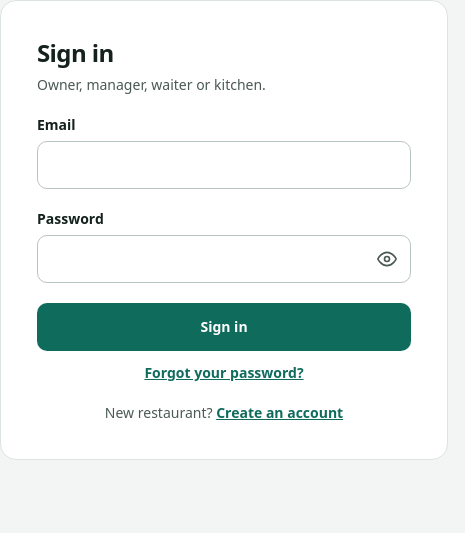
Test case: LoginForm › shows a clear message for a wrong password and stays on the page
Type "marco@example.com" into the field labelled "Email" at {"x": 224, "y": 165}, box [37,141,411,189]
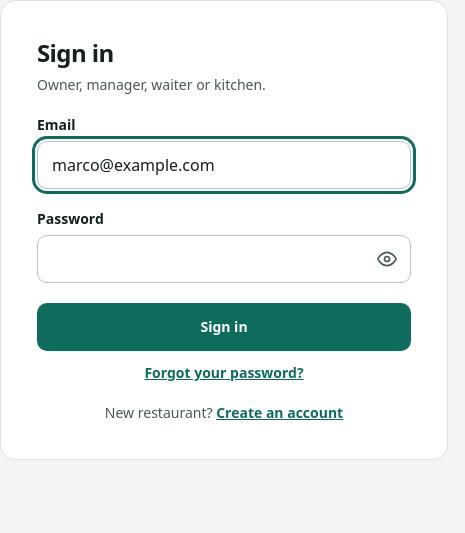
Type "wrong" into the password field labelled "Password" at {"x": 224, "y": 259}, box [37,235,411,283]
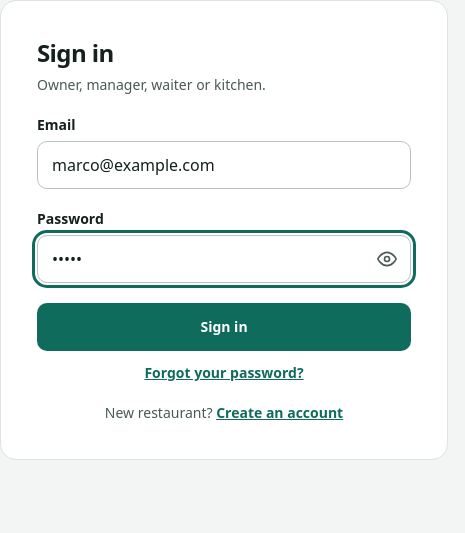
Click the button "Sign in" at {"x": 224, "y": 327}, box [37,303,411,351]
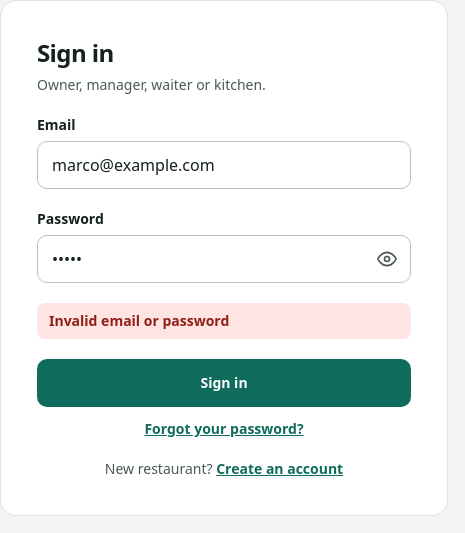
Expected: the button "Sign in" is enabled, [37,359,411,407]
Expected: the message reads "Invalid email or password", [49,311,229,330]
